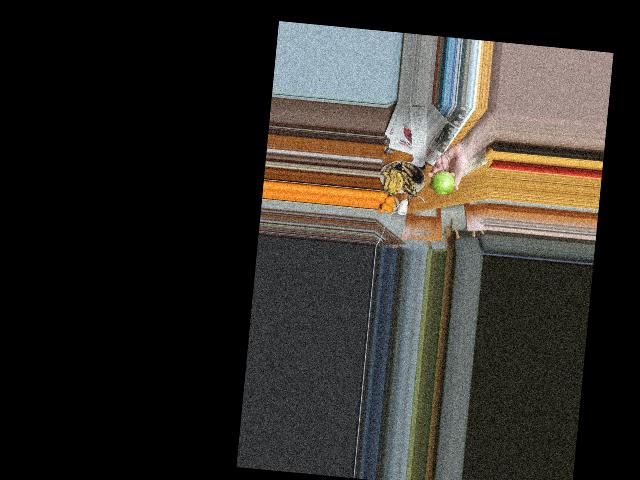apple: (429, 168, 455, 196)
